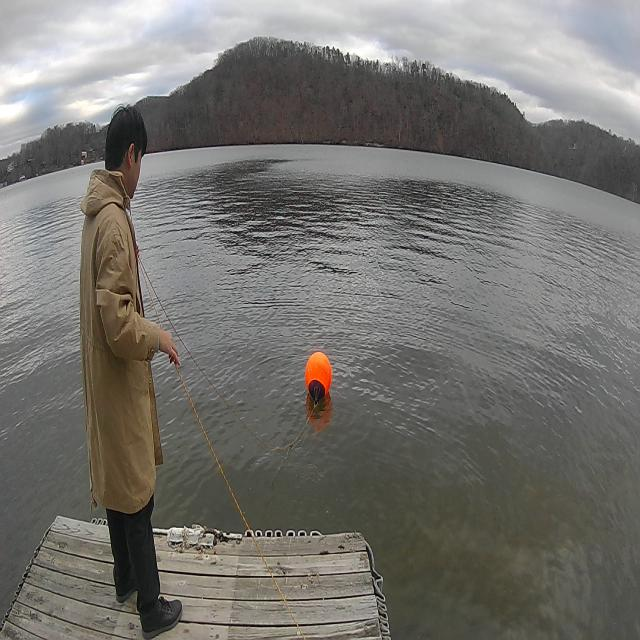Buoy: (302, 347, 333, 413)
